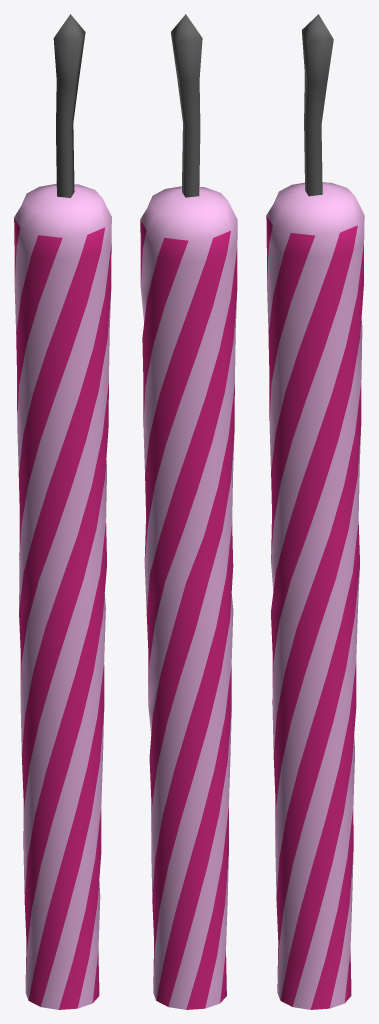
File: birthday_candle_006.glb
The picture shows the model from 3 angles, left to right: view 1: azimuth 30°, elevation 25°; view 2: azimuth 150°, elevation 25°; view 3: azimuth 330°, elevation 25°; orthographic projection.
Visible parts, largest first — view 1: birthday_candle_006; view 2: birthday_candle_006; view 3: birthday_candle_006.
Boxes of the visible parts, box(x1,y1,x2,y2) form: birthday_candle_006: box(14, 14, 111, 1009); birthday_candle_006: box(140, 14, 237, 1009); birthday_candle_006: box(266, 14, 364, 1009).
Bounding box in the file's own units: 0.9066 × 10.02 × 0.9065.
Materials: 1 (1 with a texture image).
